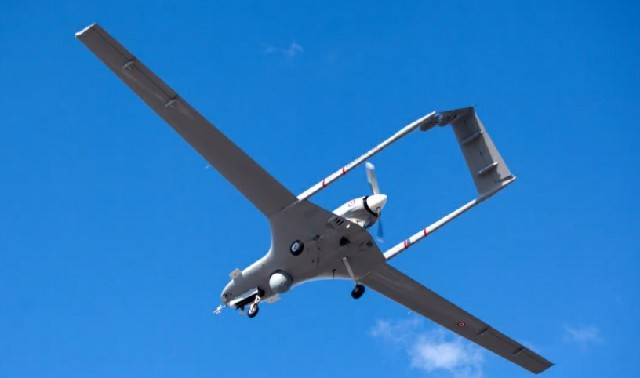maybay_khongnguoilai: (73, 23, 550, 373)
